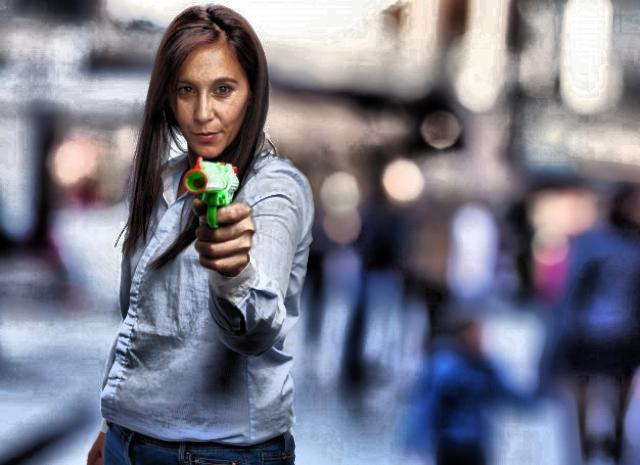pistol: (184, 156, 242, 231)
